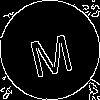M: (25, 25, 76, 79)
